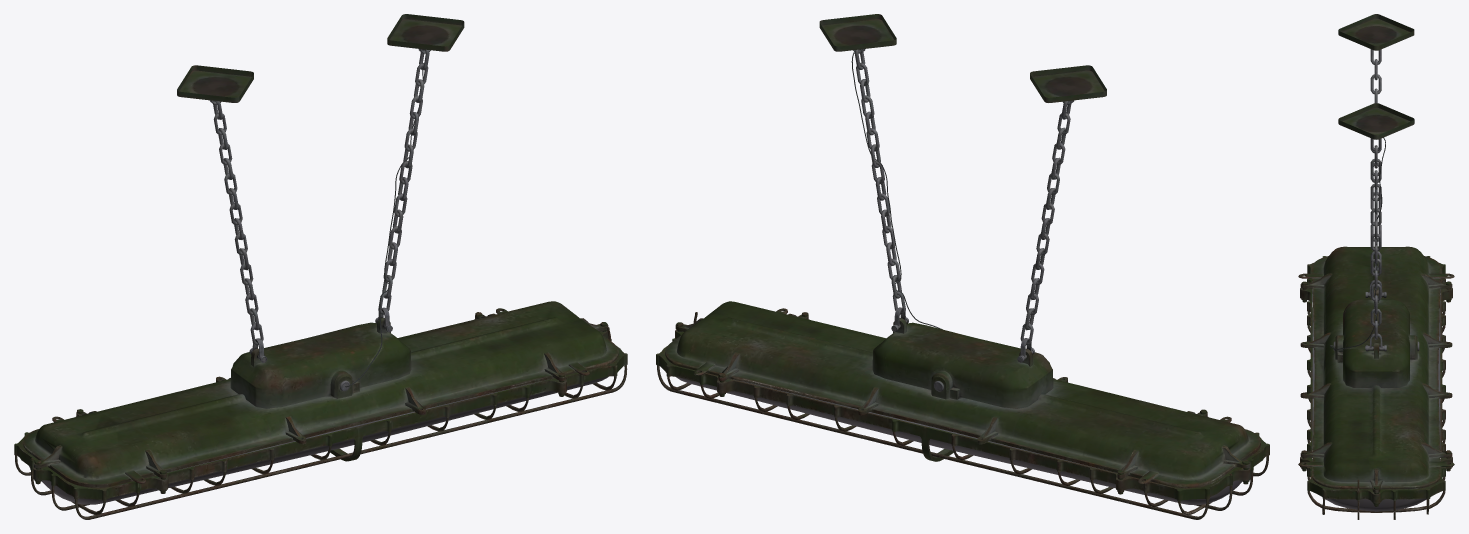
The model's file is caged_hanging_light_1k.high.glb.
3 renders of one model, left to right at view 1: azimuth 30°, elevation 25°; view 2: azimuth 150°, elevation 25°; view 3: azimuth 270°, elevation 25°, orthographic. The views are drawn at different scales.
Visible parts, largest first — view 1: caged_hanging_light; view 2: caged_hanging_light; view 3: caged_hanging_light.
Part boxes in pixels (x1,y1,x2,y2): caged_hanging_light: (14,14,627,519); caged_hanging_light: (656,14,1269,519); caged_hanging_light: (1298,14,1454,519).
Bounding box in the file's own units: 1.16 × 0.7501 × 0.3149.
1 material, 1 textured.
